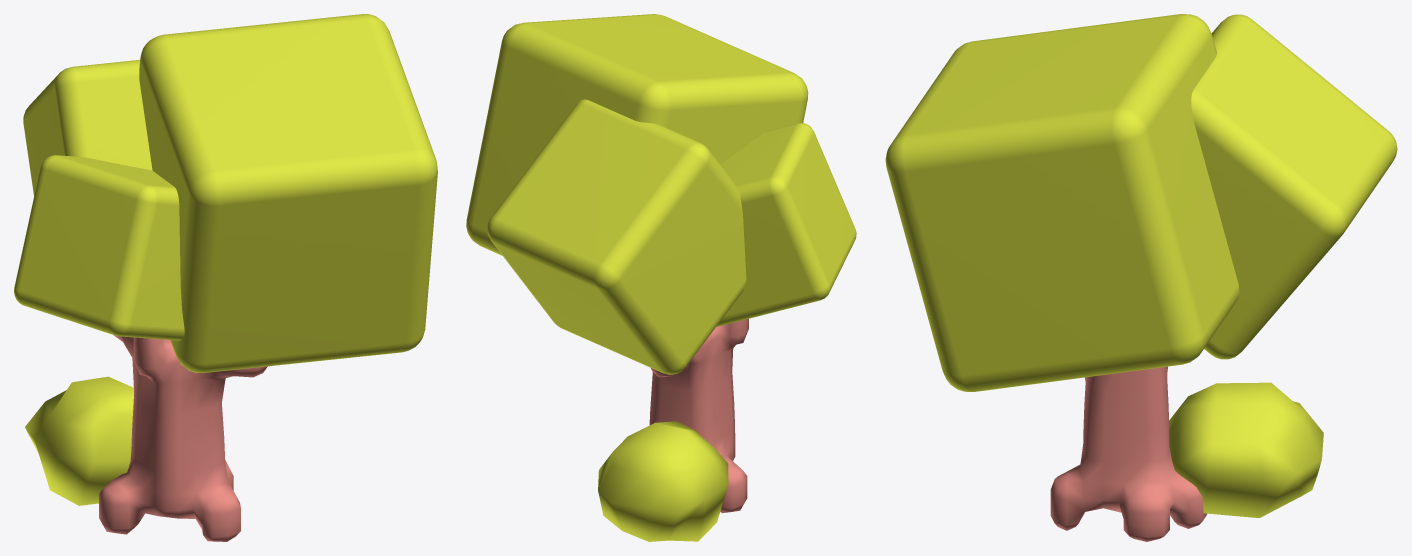
Rendered from obstacle_tall.fbx.
3 views of the same model, side by side, from view 1: azimuth 30°, elevation 25°; view 2: azimuth 150°, elevation 25°; view 3: azimuth 270°, elevation 25° (orthographic). The views are drawn at different scales.
Parts seen in each view (by area): view 1: pCube12; view 2: pCube12; view 3: pCube12.
Part boxes in pixels (box(x1,y1,x2,y2)): pCube12: box(14, 14, 437, 541); pCube12: box(466, 14, 856, 541); pCube12: box(885, 14, 1397, 541).
Size of the model in its own units: 0.981 by 1.16 by 1.05.
